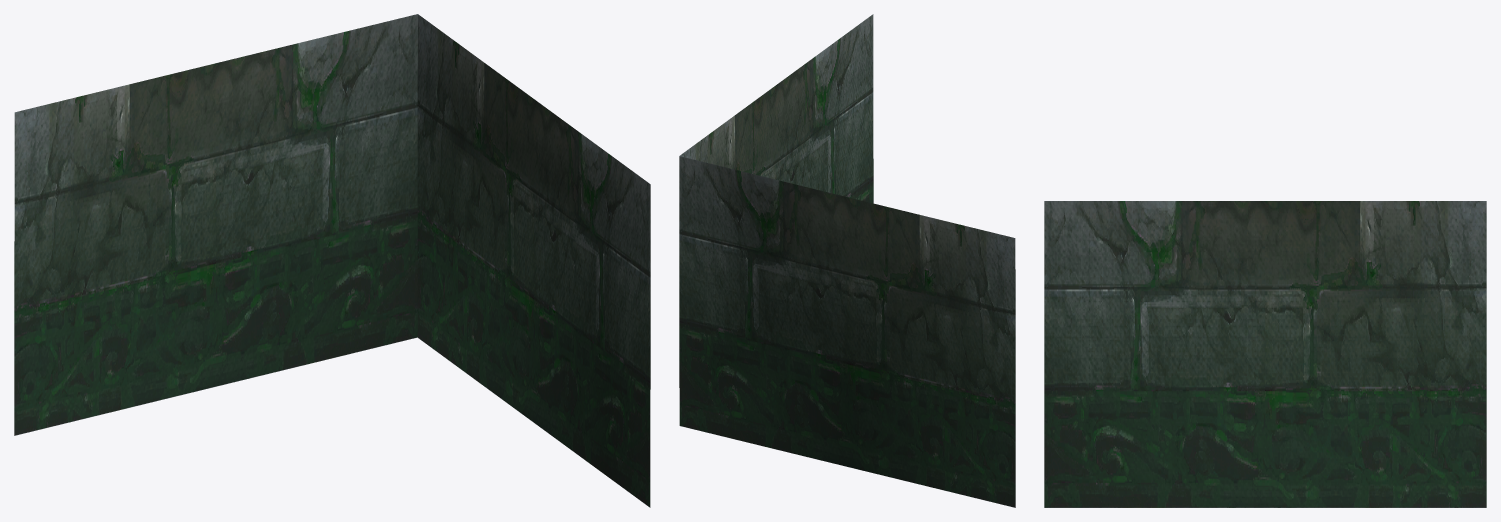
File: stemple_half_concave_06.fbx
3 views of the same model, side by side, from view 1: azimuth 30°, elevation 25°; view 2: azimuth 150°, elevation 25°; view 3: azimuth 270°, elevation 25° (orthographic). The views are drawn at different scales.
Visible parts, largest first — view 1: sunken_tileset/sunken_wall_straight05_mat; view 2: sunken_tileset/sunken_wall_straight05_mat; view 3: sunken_tileset/sunken_wall_straight05_mat.
Part boxes in pixels (bbox=[...]): sunken_tileset/sunken_wall_straight05_mat: bbox=[14, 14, 650, 507]; sunken_tileset/sunken_wall_straight05_mat: bbox=[679, 14, 1015, 507]; sunken_tileset/sunken_wall_straight05_mat: bbox=[1044, 201, 1486, 507].
Bounding box in the file's own units: 3.59 × 2.75 × 3.59.
